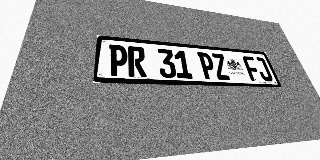1: (173, 50, 193, 79)
3: (157, 48, 177, 78)
F: (242, 56, 263, 81)
J: (253, 57, 274, 81)
P: (108, 44, 128, 77), (197, 52, 217, 80)
R: (128, 46, 147, 77)
Z: (210, 53, 231, 80)
